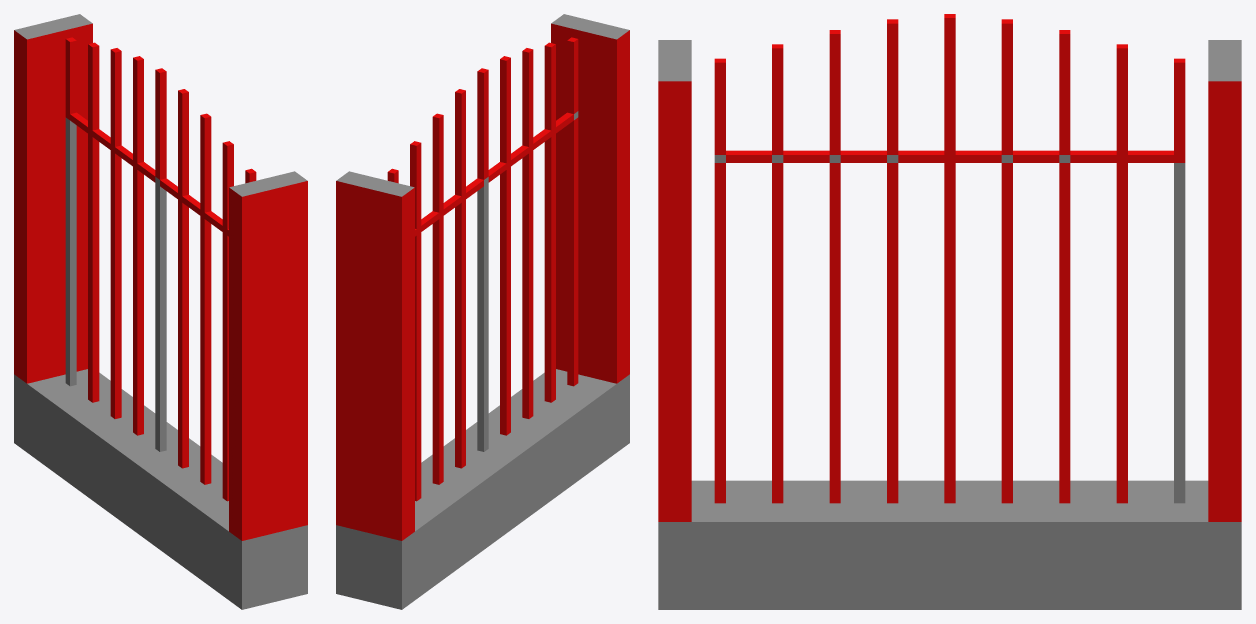
The model's file is ParkFence_00.fbx.
3 views of the same model, side by side, from view 1: azimuth 30°, elevation 25°; view 2: azimuth 150°, elevation 25°; view 3: azimuth 270°, elevation 25° (orthographic). The views are drawn at different scales.
Parts seen in each view (by area): view 1: Box001; view 2: Box001; view 3: Box001.
Boxes of the visible parts, x1,y1,x2,y2 form: Box001: [14, 14, 307, 609]; Box001: [336, 14, 629, 609]; Box001: [658, 14, 1241, 609].
Size of the model in its own units: 19.69 by 118 by 128.
